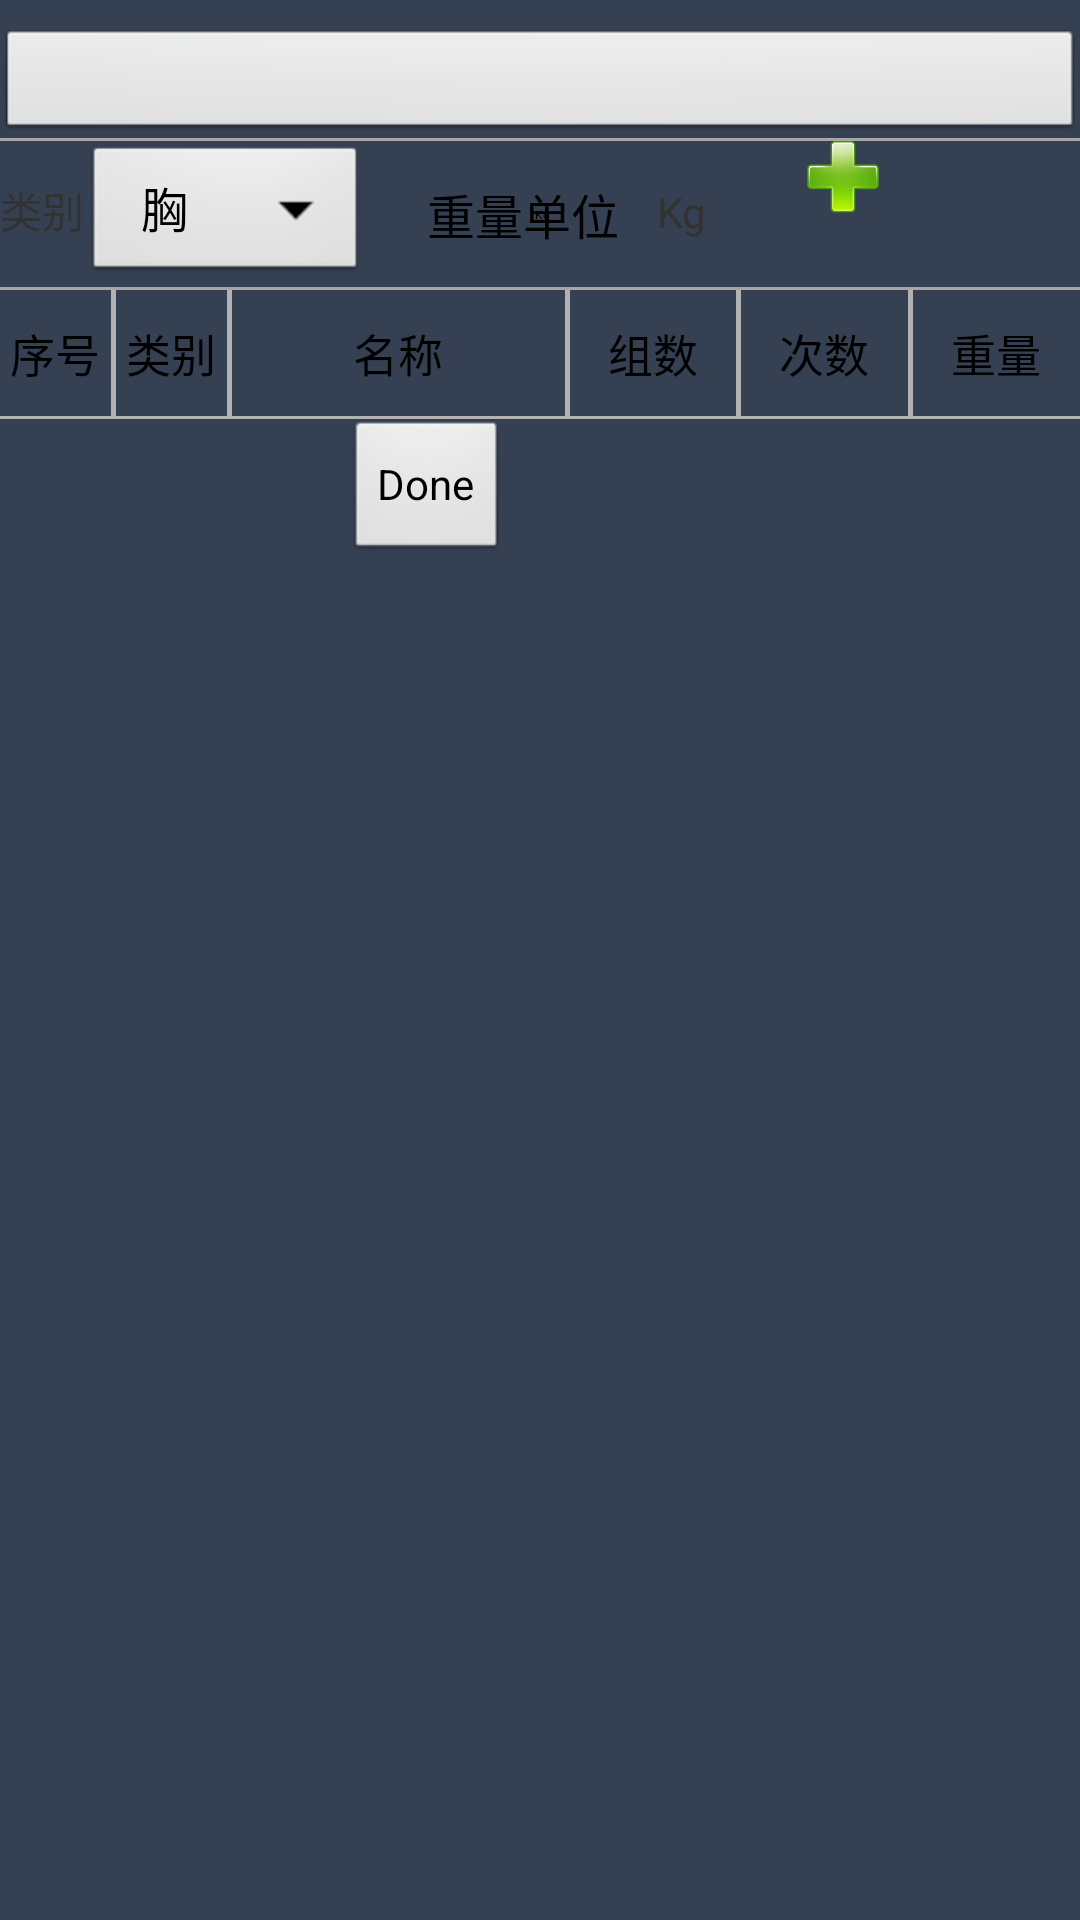

Screen size 1080*1920. Icon name, then its center in pixels as point (x, y):
plus: point (843, 177)
